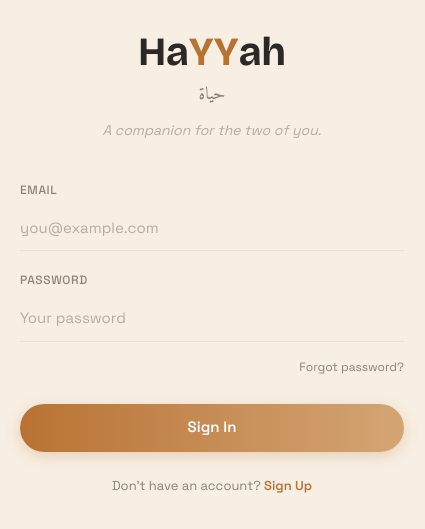
Login Page › shows network error on exception
Type "test@example.com" into the field with placeholder "you@example.com" at (212, 228), box [20, 205, 404, 251]
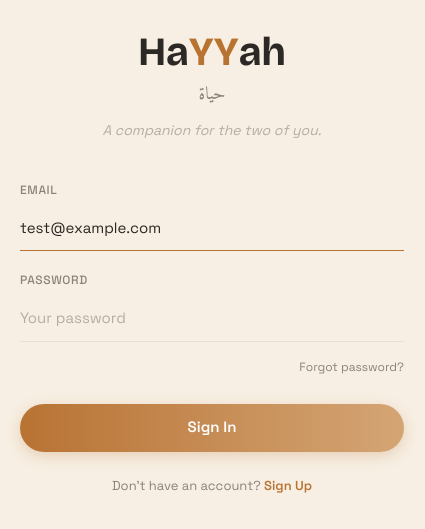
Type "password123" into the password field with placeholder "Your password" at (212, 318), box [20, 295, 404, 342]
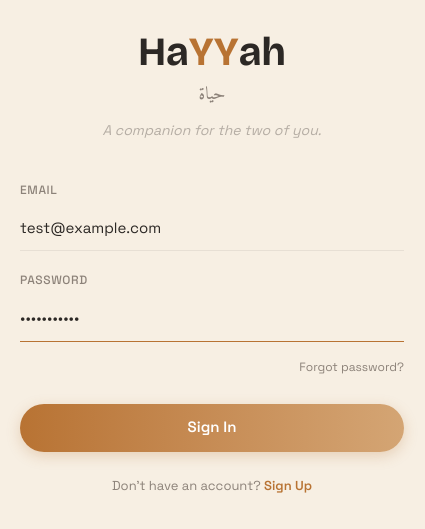
Click the button "Sign In" at (212, 428), box [20, 404, 404, 452]
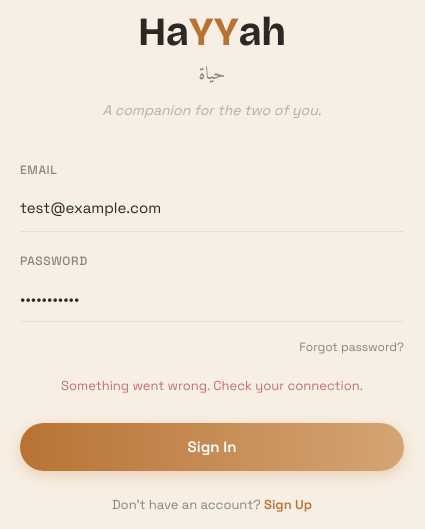
Expected: the text "Something went wrong. Check your connection." is shown, [61, 377, 363, 394]
